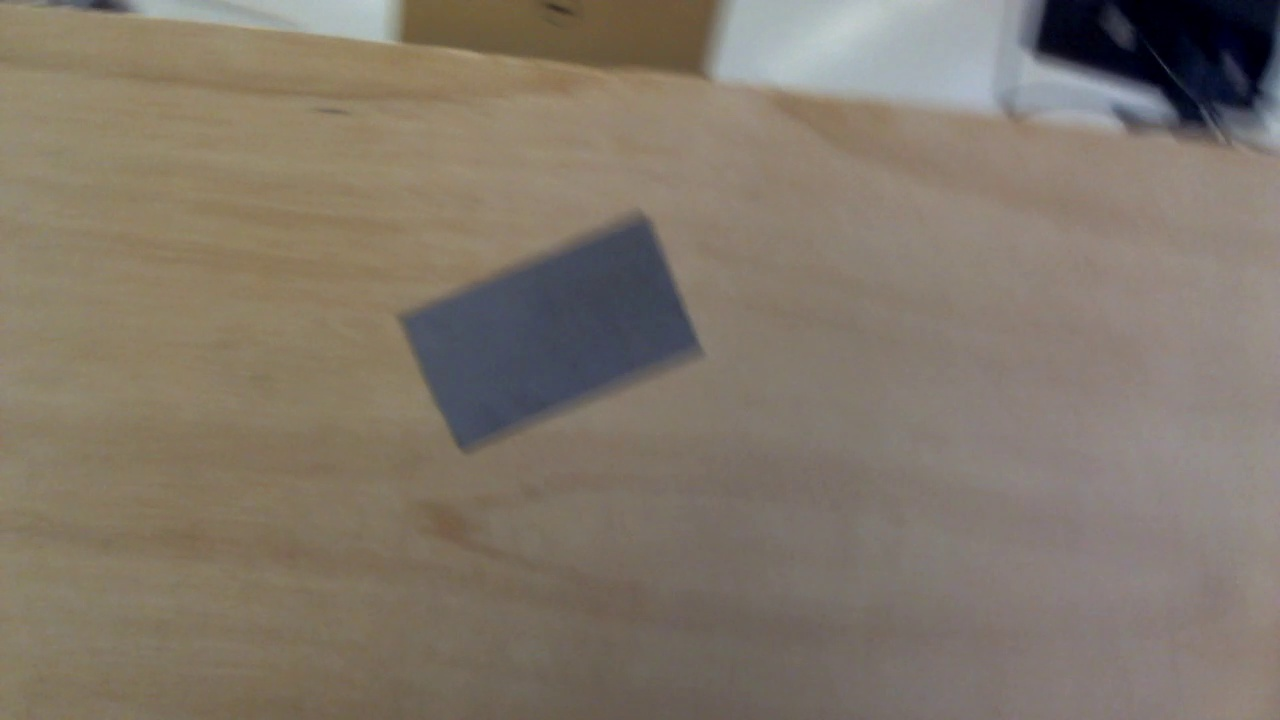Tape: (398, 213, 705, 456)
